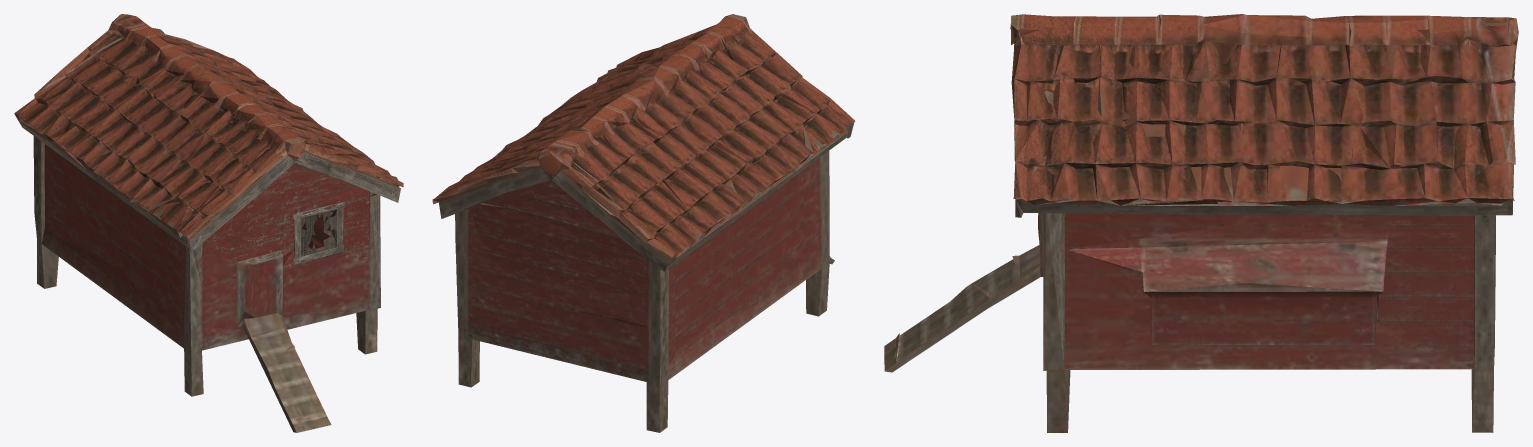
The model's file is coop.glb.
The picture shows the model from 3 angles, left to right: view 1: azimuth 30°, elevation 25°; view 2: azimuth 150°, elevation 25°; view 3: azimuth 270°, elevation 25°; orthographic projection. The views are drawn at different scales.
Parts seen in each view (by area): view 1: output_unwrapped; view 2: output_unwrapped; view 3: output_unwrapped.
Boxes of the visible parts, box(x1,y1,x2,y2) form: output_unwrapped: box(14, 14, 403, 432); output_unwrapped: box(432, 14, 854, 432); output_unwrapped: box(884, 14, 1518, 432).
Bounding box in the file's own units: 1.14 × 1.2 × 1.91.
Materials: 1 (1 with a texture image).
